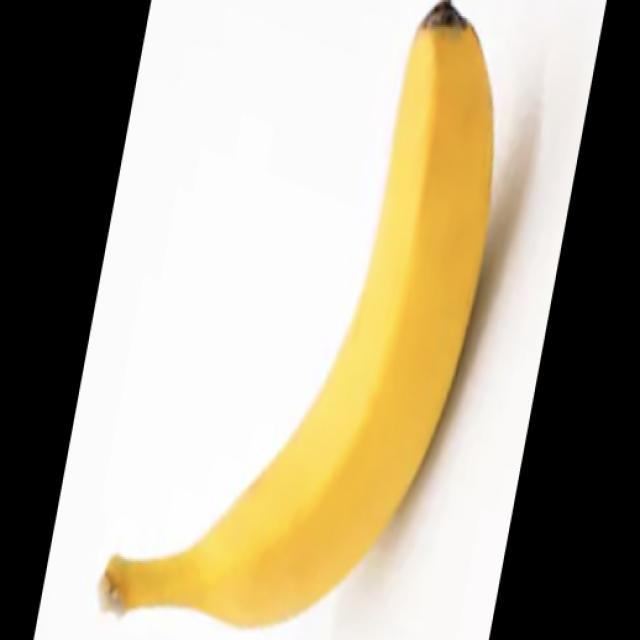Banana: (98, 0, 495, 629)
